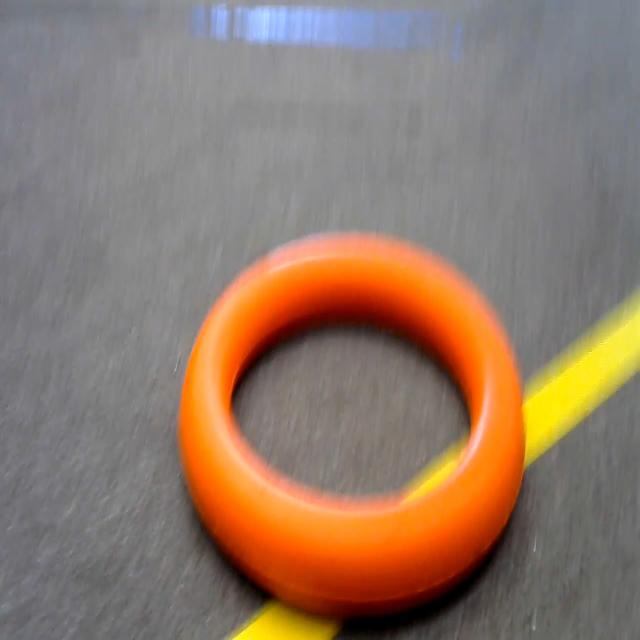note: (174, 219, 540, 608)
